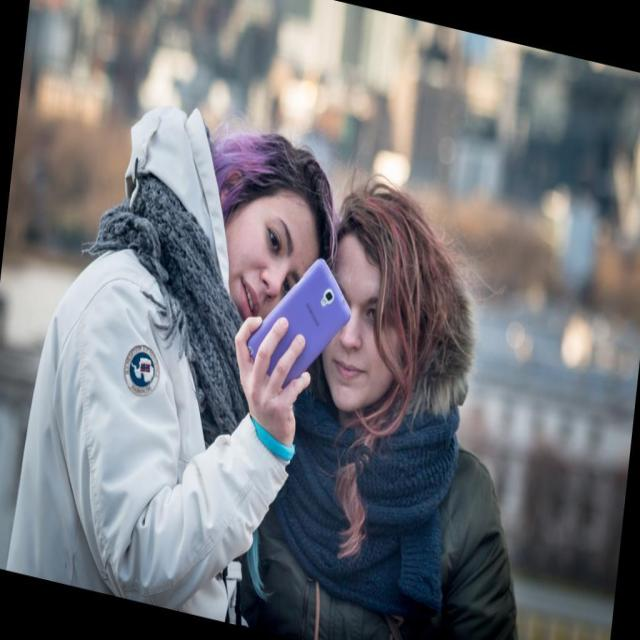phone: (245, 257, 351, 392)
